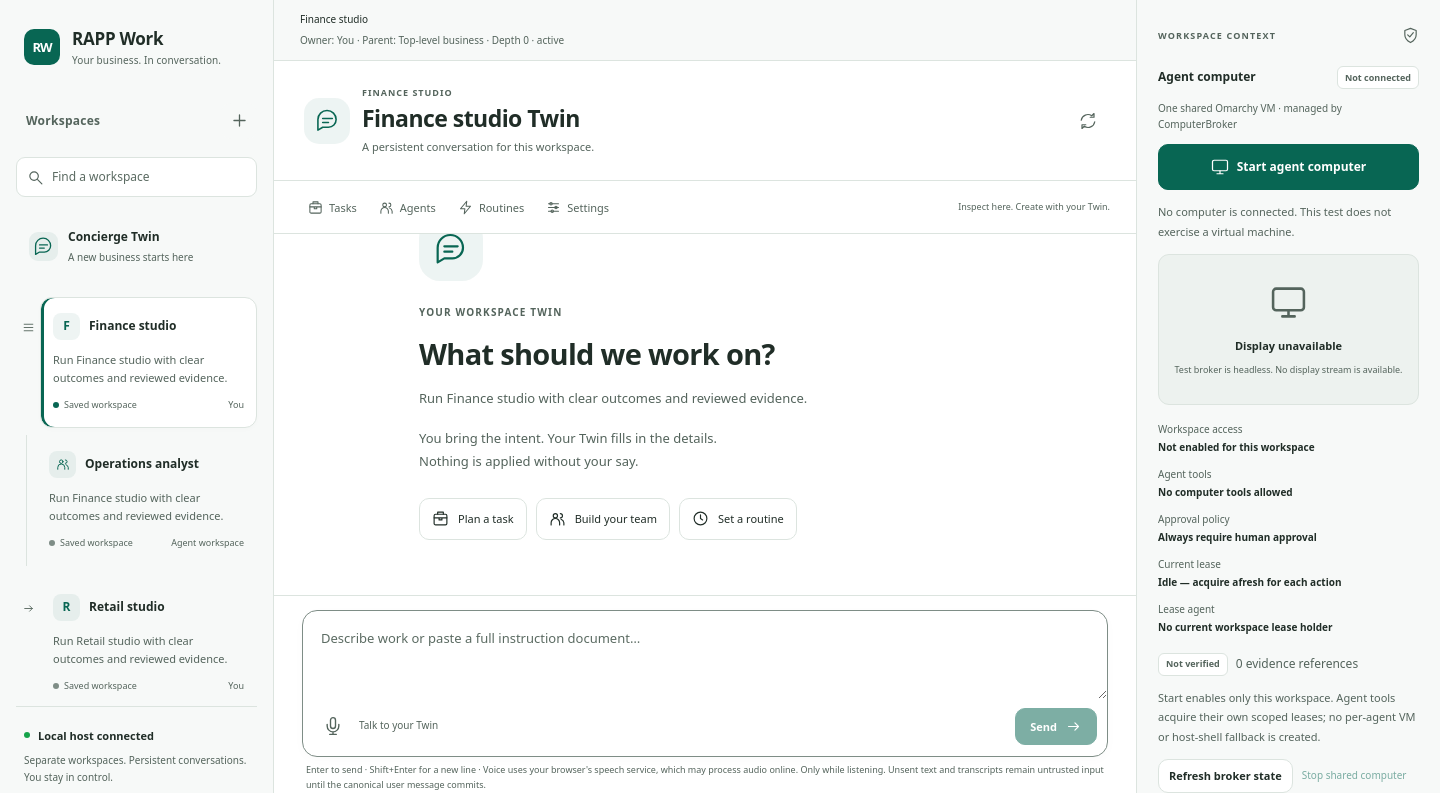
foreground, user-started voice dictation › stops and ignores late transcripts on workspace switches
(page scrolled)
Check: the heading "Finance studio Twin" is shown, box [362, 103, 594, 134]
What coordinates should you click on to do the following:
click the button named "Start voice dictation"
I would click on:
 (333, 726)
Its box is [313, 706, 353, 746].
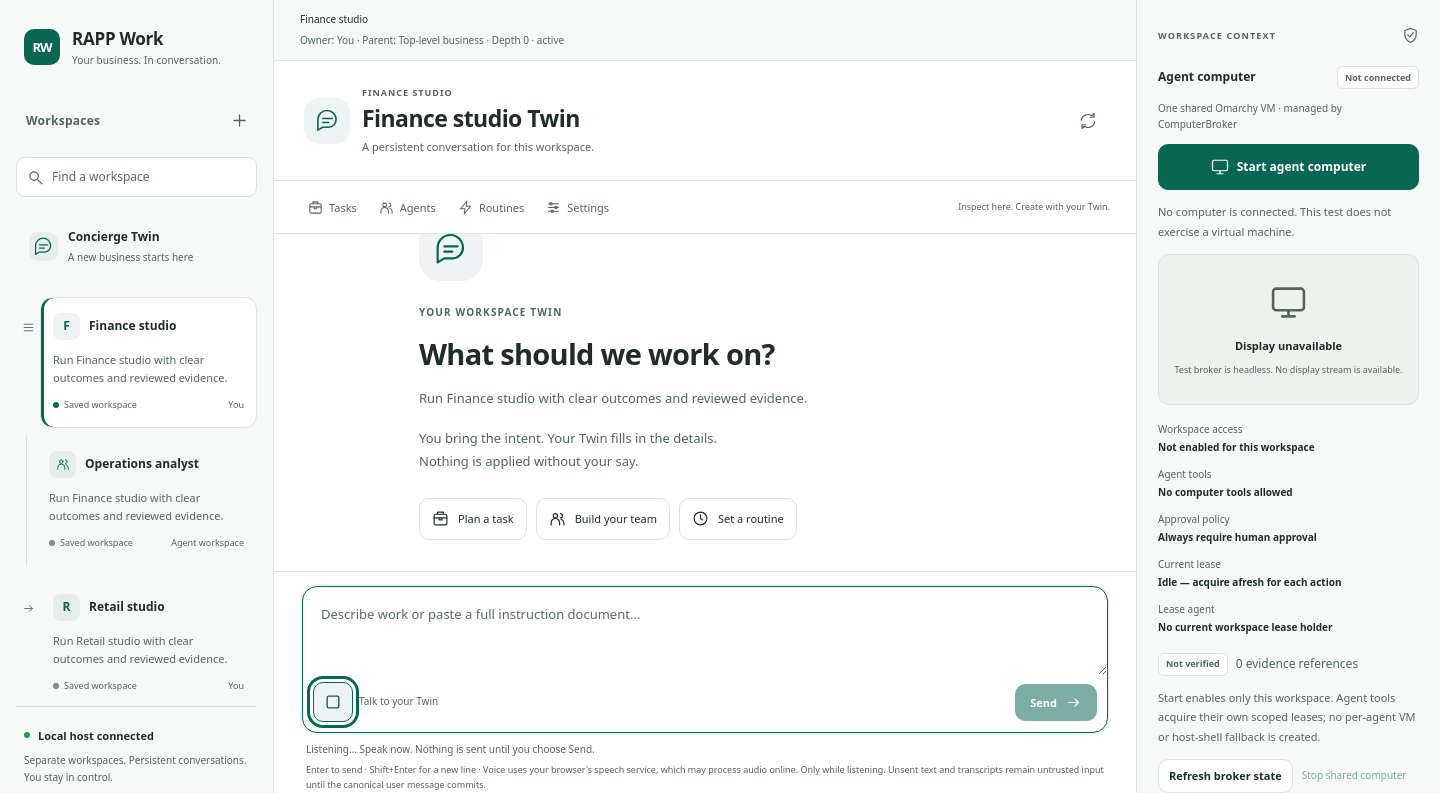
What coordinates should you click on to do the following:
click the button named "Open workspace Retail studio"
I would click on:
 (148, 644)
Its box is [40, 578, 257, 709].
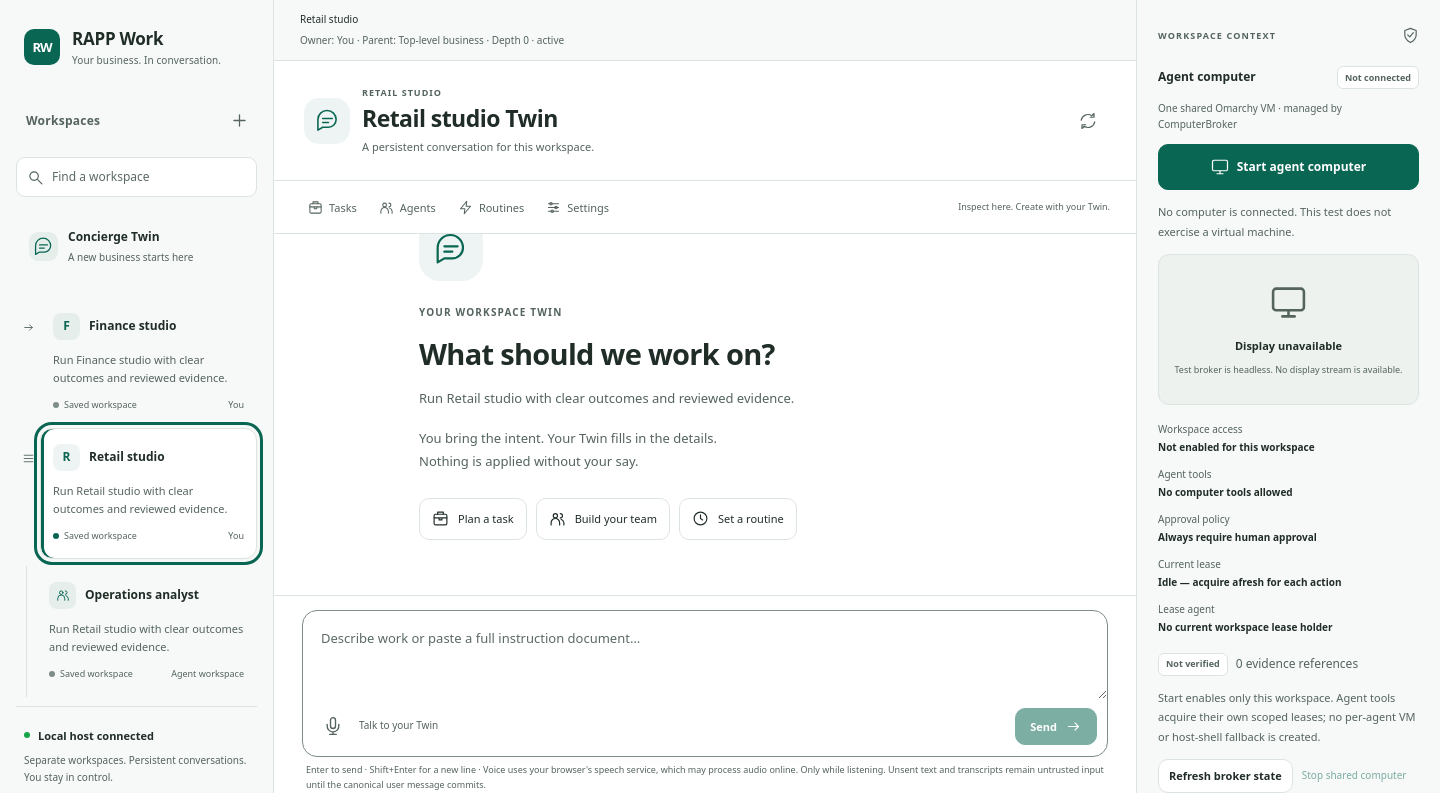
Check: the text box named "Message your Work Twin" is empty, box [303, 611, 1107, 699]
Check: the heading "Retail studio Twin" is shown, box [362, 102, 558, 134]
